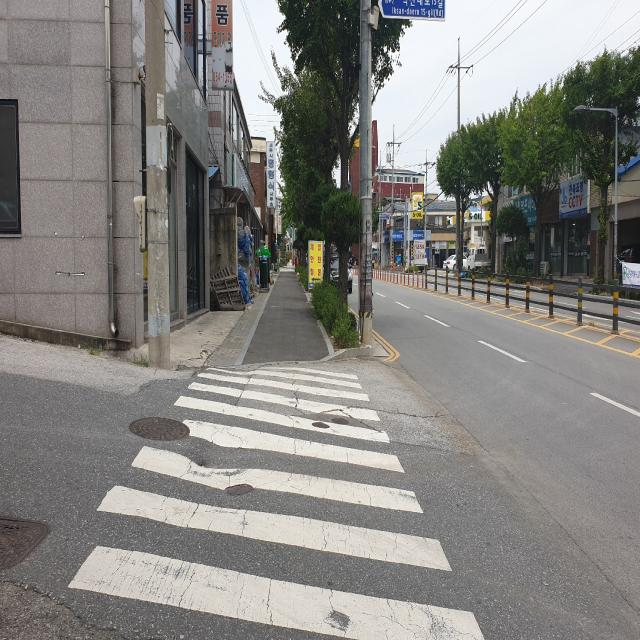횡단보도: (68, 367, 484, 640)
